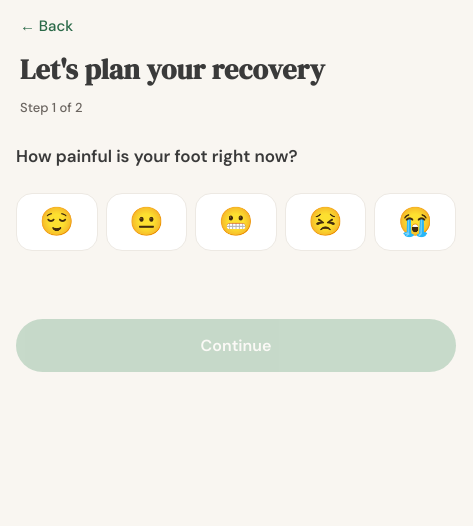
Test case: RehabOnboarding — step 2 (duration) › going back returns to step 1
Click the button named "Severe pain": (415, 222) x1=374 y1=193 x2=456 y2=251
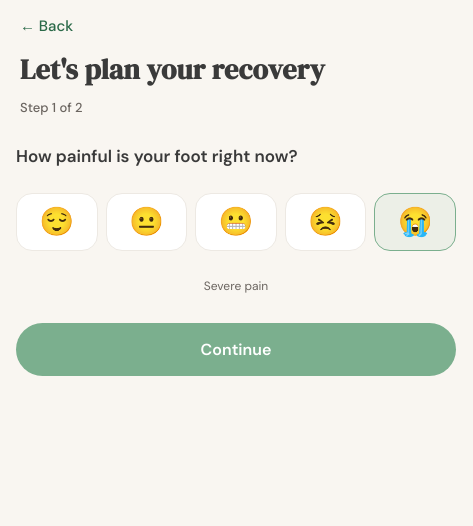
Click the button "Continue": (236, 350) x1=16 y1=323 x2=456 y2=376
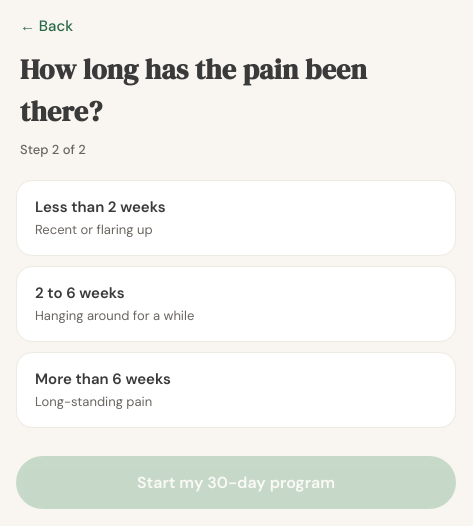
Click the button "← Back": (47, 26) x1=20 y1=16 x2=73 y2=36
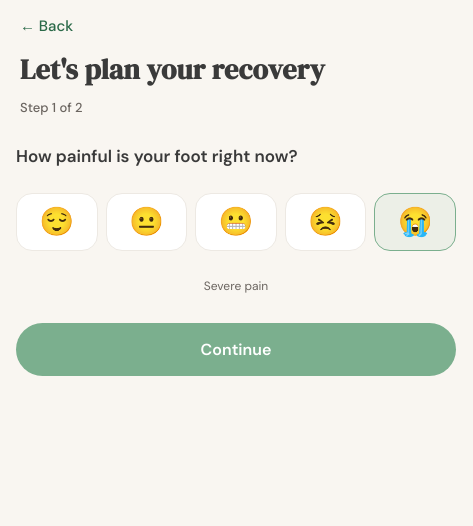
Now the text "Step 1 of 2" is shown, box x1=20 y1=99 x2=83 y2=116
